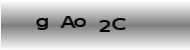2: (97, 19, 111, 33)
A: (59, 15, 76, 29)
C: (112, 17, 126, 31)
g: (36, 17, 49, 30)
o: (74, 17, 87, 28)
